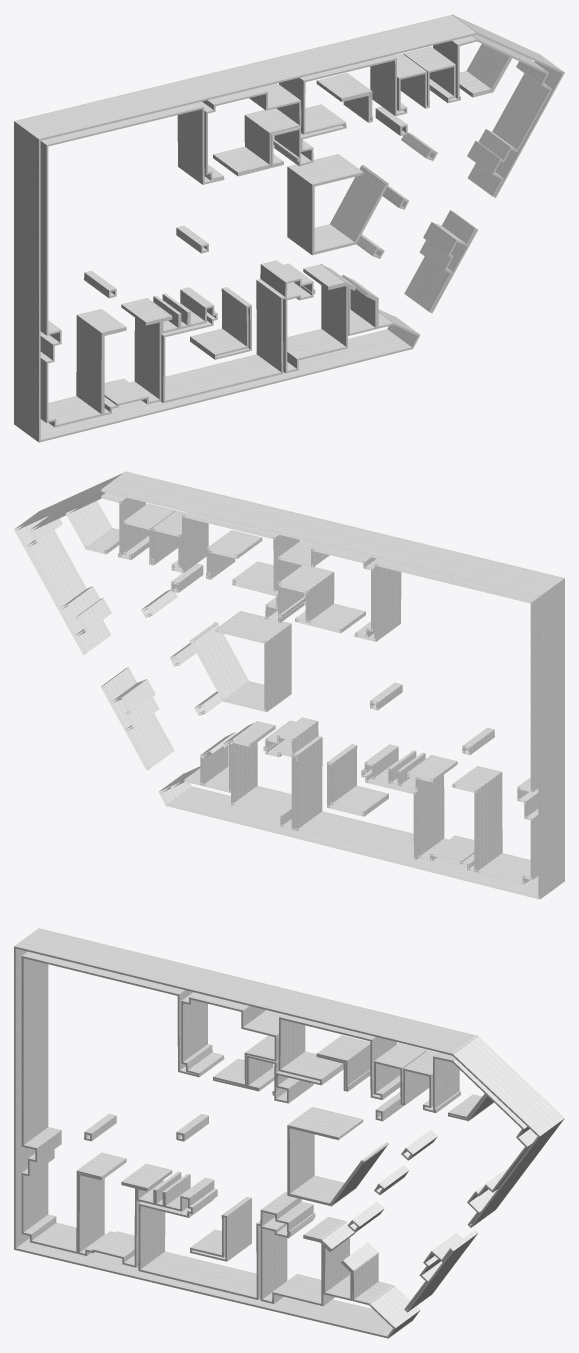
Rendered from wall_1.obj.
The picture shows the model from 3 angles, top to bottom: view 1: azimuth 30°, elevation 25°; view 2: azimuth 150°, elevation 25°; view 3: azimuth 330°, elevation 25°; orthographic projection.
Visible parts, largest first — view 1: walls; view 2: walls; view 3: walls.
Boxes of the visible parts, x1=… form: walls: x1=14, y1=14, x2=564, y2=442; walls: x1=14, y1=471, x2=564, y2=899; walls: x1=14, y1=928, x2=564, y2=1338.
Bounding box in the file's own units: 30.49 × 16.8 × 2.5.
